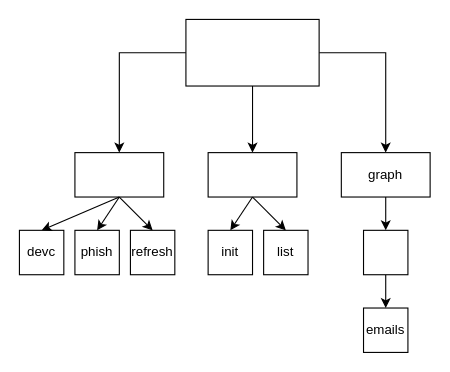
Image size: 450x372. Some labels were removed from this diagram. The shapes that lost their labels are listed below. From the top down, each one's centre as x and y in pixels, then its label:
[252,52]: msph
[119,174]: auth
[252,174]: wsp
[385,252]: dump
